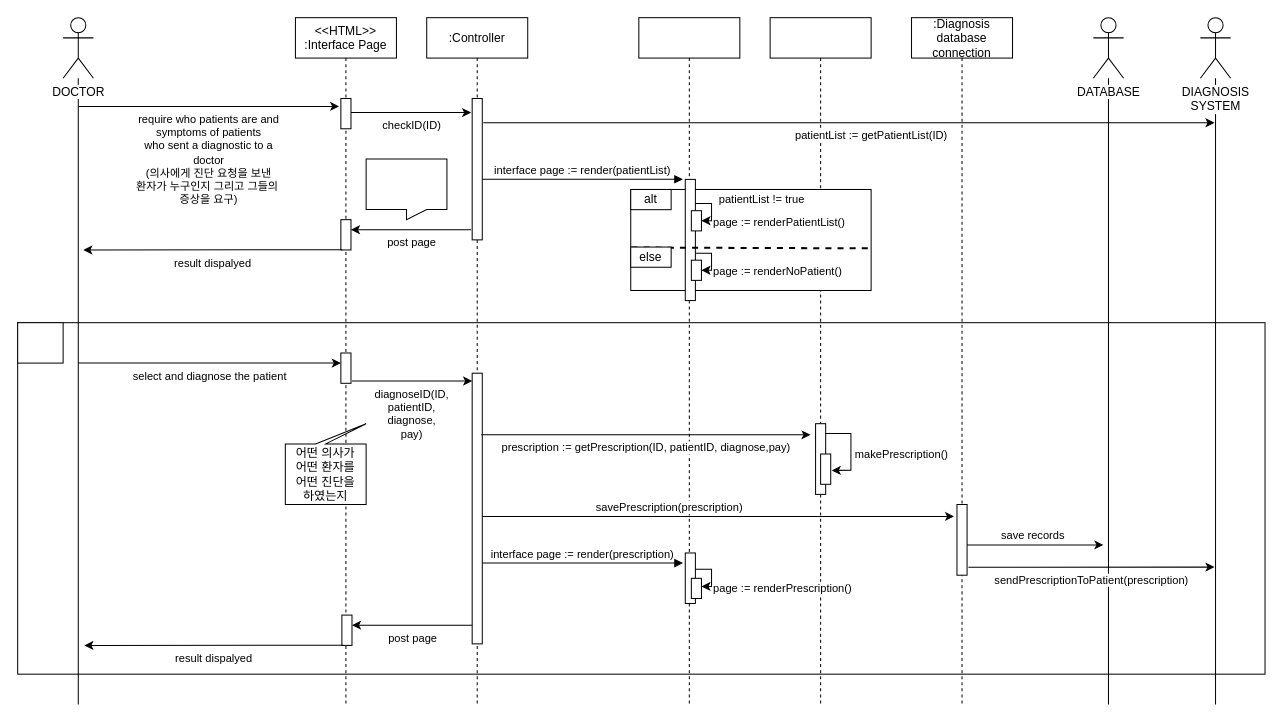
This 1283x723 diagram has some shape labels left out. The box of each missing label's shape, as (x1, y1, x2, y2) in pixels:
:Page Maker: (638, 17, 740, 704)
:Prescription maker: (769, 17, 871, 704)
opt: (17, 322, 63, 363)
환자들과 각 환자의 증상: (365, 158, 447, 220)
